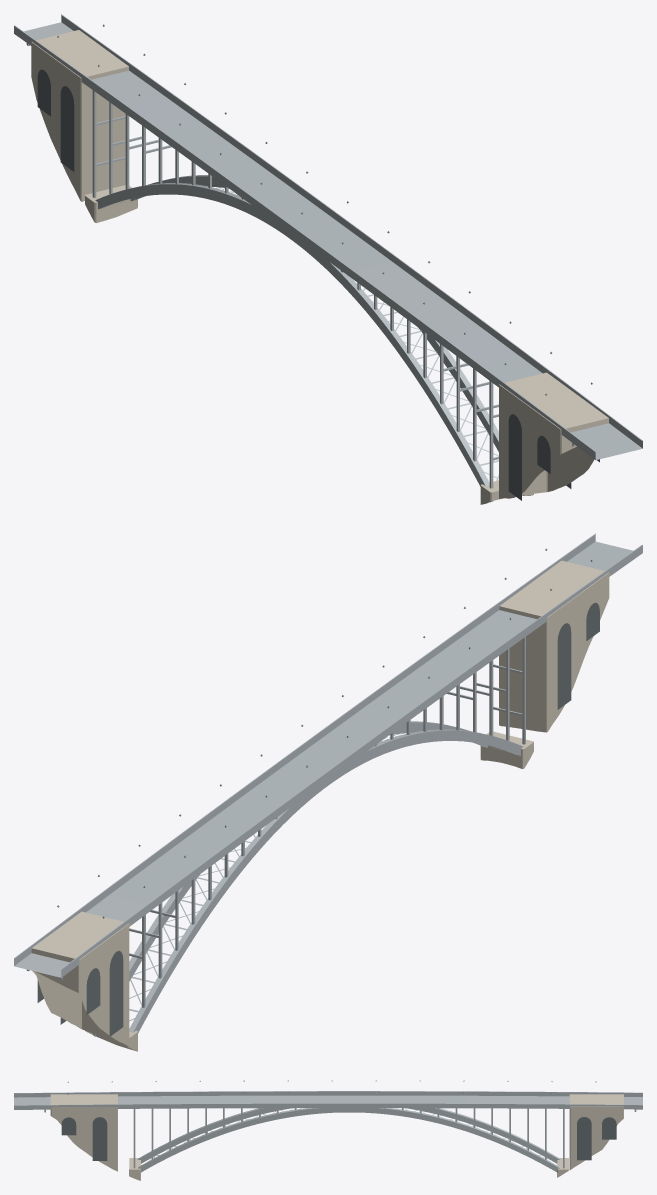
File: niagara-rainbow-bridge.glb
3 renders of one model, top to bottom at view 1: azimuth 30°, elevation 25°; view 2: azimuth 150°, elevation 25°; view 3: azimuth 270°, elevation 25°, orthographic. The views are drawn at different scales.
Visible parts, largest first — view 1: Rainbow Bridge; view 2: Rainbow Bridge; view 3: Rainbow Bridge.
Part boxes in pixels (left/top/right/bottom): Rainbow Bridge: left=14, top=14, right=642, bottom=504; Rainbow Bridge: left=14, top=533, right=642, bottom=1051; Rainbow Bridge: left=14, top=1080, right=642, bottom=1180.
Bounding box in the file's own units: 21.5 × 67.1 × 429.
